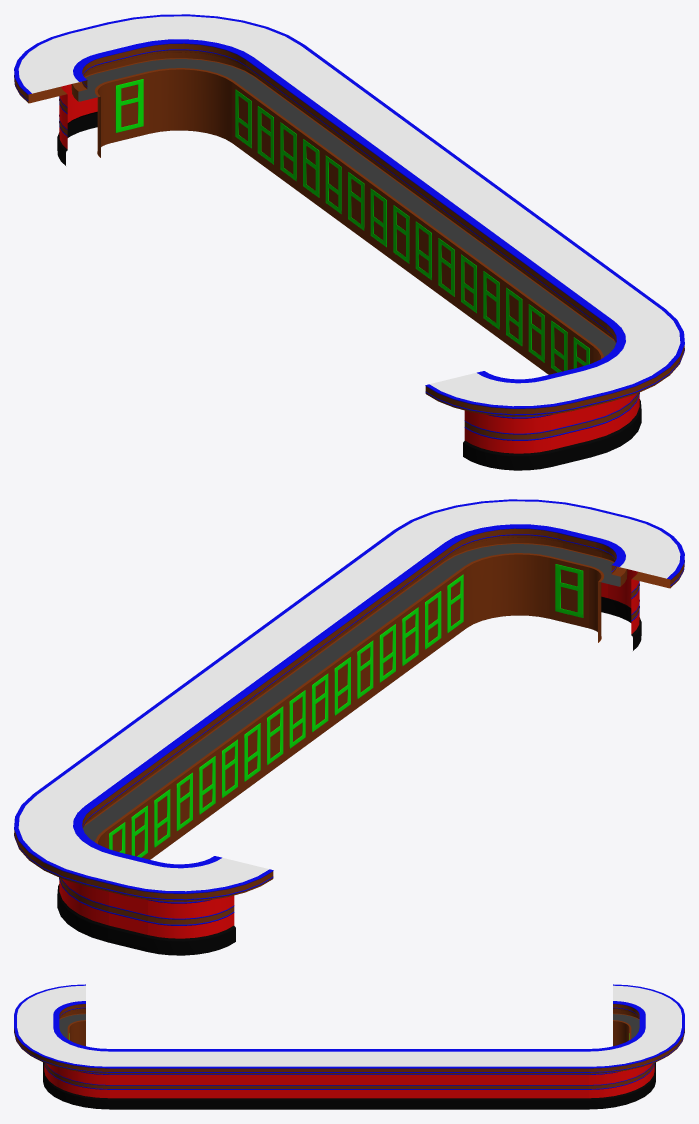
The model's file is Mostrador.dae.
The picture shows the model from 3 angles, top to bottom: view 1: azimuth 30°, elevation 25°; view 2: azimuth 150°, elevation 25°; view 3: azimuth 270°, elevation 25°; orthographic projection. The views are drawn at different scales.
Parts seen in each view (by area): view 1: curvebar (×4), curvetightbar1 (×5), curvebar1 (×5), straightbar6 (×5), straightbar7 (×5), straightbar2 (×5), straightbar3 (×5), straightbar4 (×5), straightbar5 (×5), straightbar (×5), curvetightbar (×4), straightbar1 (×5) (+2 smaller); view 2: curvebar1 (×4), curvetightbar (×5), curvebar (×5), straightbar (×5), straightbar1 (×5), straightbar5 (×5), straightbar2 (×5), straightbar4 (×5), straightbar3 (×5), straightbar6 (×5), curvetightbar1 (×4), straightbar7 (×5) (+2 smaller); view 3: curvebar (×5), curvebar1 (×5), straightbar2 (×5), straightbar3 (×5), straightbar5 (×5), straightbar4 (×5), straightbar (×5), straightbar1 (×5), straightbar6 (×5), straightbar7 (×5), curvetightbar (×4), curvetightbar1 (×4) (+2 smaller).
Part boxes in pixels (x1,y1,x2,y2): curvebar (×4): (107,14,304,142); curvetightbar1 (×5): (425,371,573,470); curvebar1 (×5): (579,309,684,457); straightbar6 (×5): (277,78,394,208); straightbar7 (×5): (232,45,349,175); straightbar2 (×5): (457,210,574,340); straightbar3 (×5): (412,177,529,307); straightbar4 (×5): (367,144,484,274); straightbar5 (×5): (322,111,439,241); straightbar (×5): (503,243,619,373); curvetightbar (×4): (14,32,109,157); straightbar1 (×5): (548,276,664,374); curvebar1 (×4): (394,499,591,627); curvetightbar (×5): (125,856,273,955); curvebar (×5): (14,794,119,942); straightbar (×5): (304,563,421,693); straightbar1 (×5): (349,530,466,660); straightbar5 (×5): (124,695,241,825); straightbar2 (×5): (259,596,376,726); straightbar4 (×5): (169,662,286,792); straightbar3 (×5): (214,629,331,759); straightbar6 (×5): (79,728,195,858); curvetightbar1 (×4): (589,517,684,642); straightbar7 (×5): (34,761,150,859); curvebar (×5): (589,1027,684,1109); curvebar1 (×5): (14,1027,109,1109); straightbar2 (×5): (229,1049,289,1109); straightbar3 (×5): (289,1049,349,1109); straightbar5 (×5): (409,1049,469,1109); straightbar4 (×5): (349,1049,409,1109); straightbar (×5): (170,1049,229,1109); straightbar1 (×5): (110,1049,169,1109); straightbar6 (×5): (469,1049,528,1109); straightbar7 (×5): (529,1049,588,1109); curvetightbar (×4): (613,984,684,1046); curvetightbar1 (×4): (14,984,85,1046).
Bounding box in the file's own units: 1.27 × 0.3805 × 4.3.
